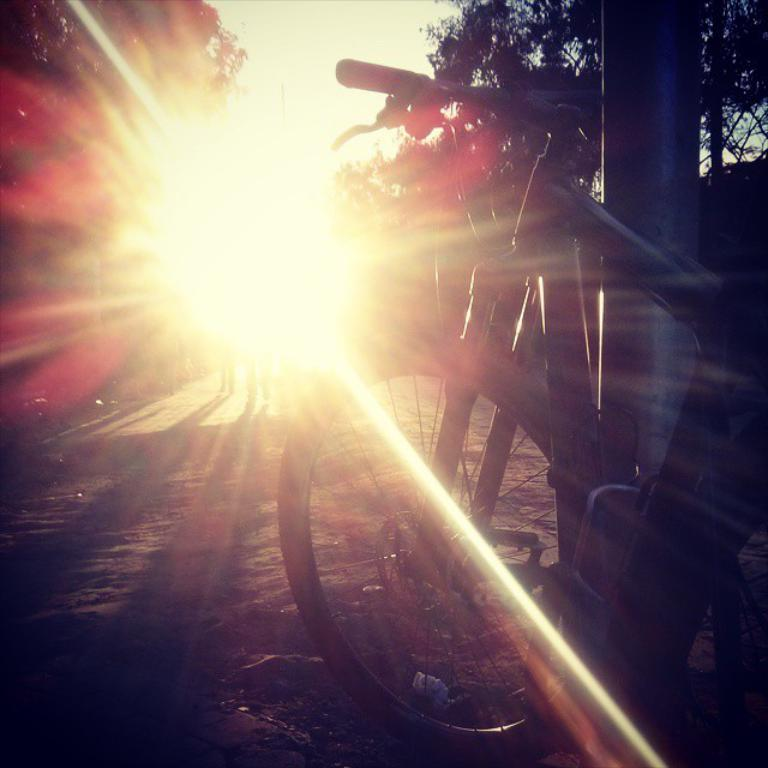Tree: (333, 0, 767, 244)
